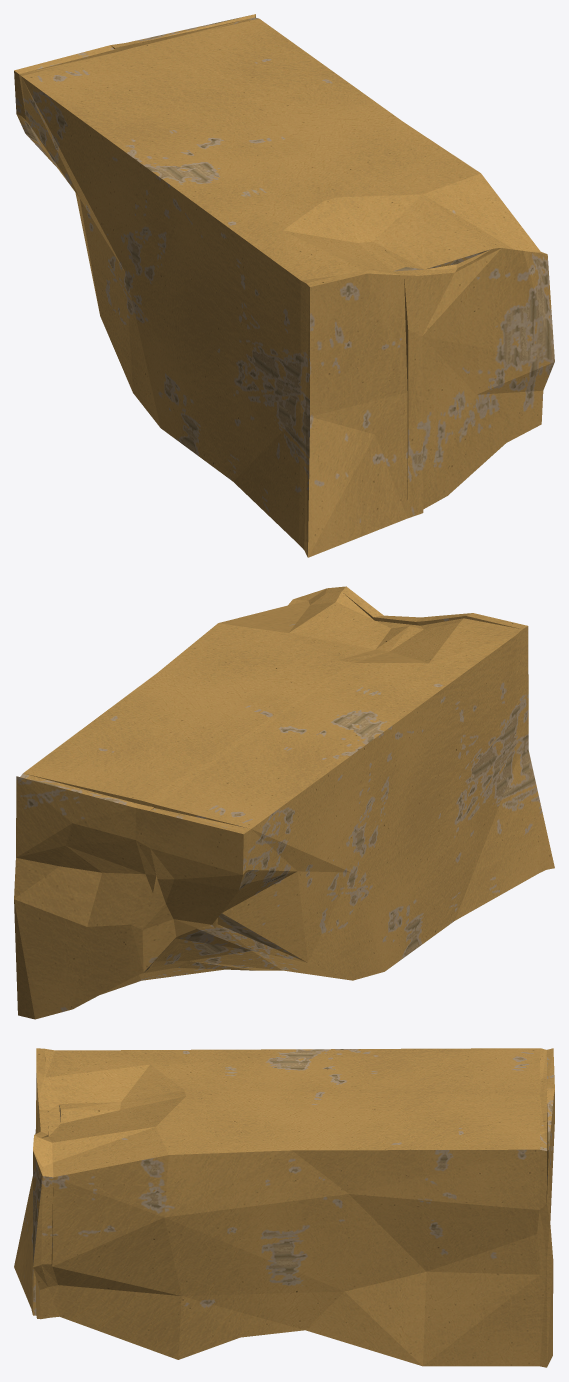
3 views of the same model, one above another, from view 1: azimuth 30°, elevation 25°; view 2: azimuth 150°, elevation 25°; view 3: azimuth 270°, elevation 25° (orthographic). The views are drawn at different scales.
Parts seen in each view (by area): view 1: BOX1; view 2: BOX1; view 3: BOX1.
Part boxes in pixels (x1=…): BOX1: x1=14, y1=14, x2=554, y2=557; BOX1: x1=14, y1=586, x2=554, y2=1019; BOX1: x1=14, y1=1048, x2=554, y2=1367.
Bounding box in the file's own units: 2.24 × 2.07 × 4.48.
Materials: 1 (1 with a texture image).
